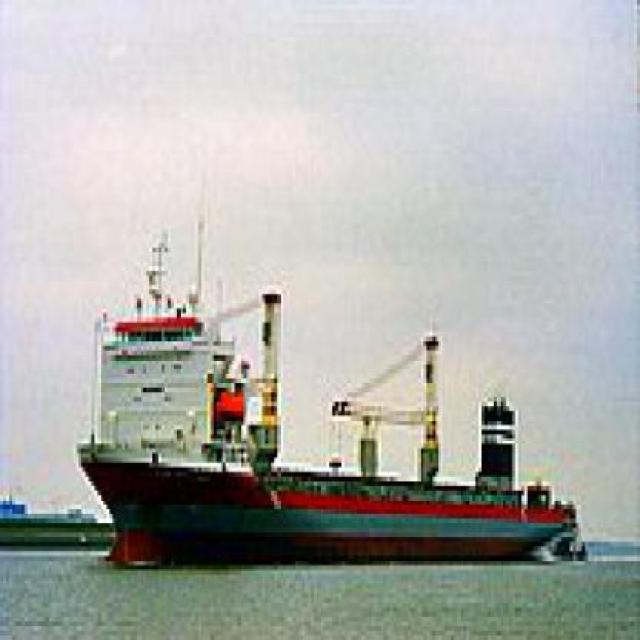container: (74, 287, 583, 567)
